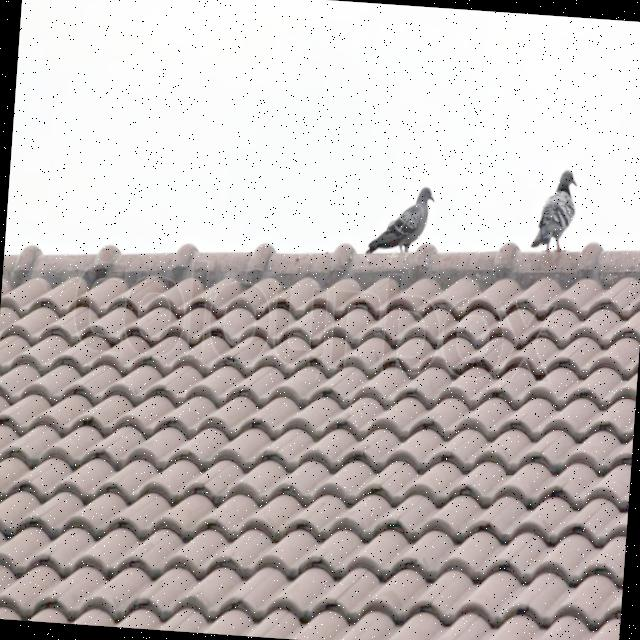bird: (366, 182, 436, 258), (530, 167, 578, 254), (328, 241, 357, 275)
